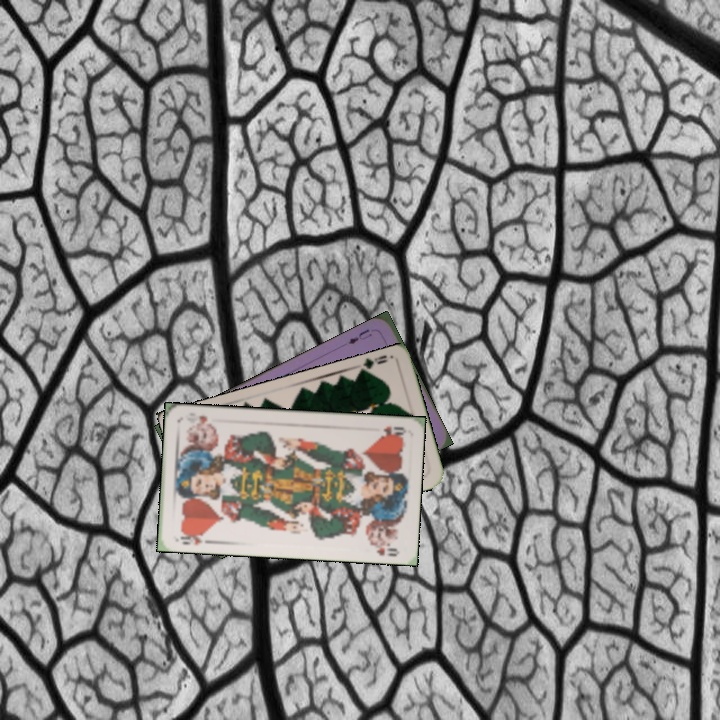EU: (344, 325, 375, 347)
G9: (356, 351, 390, 376)
HO: (177, 528, 208, 548), (376, 422, 408, 439)
